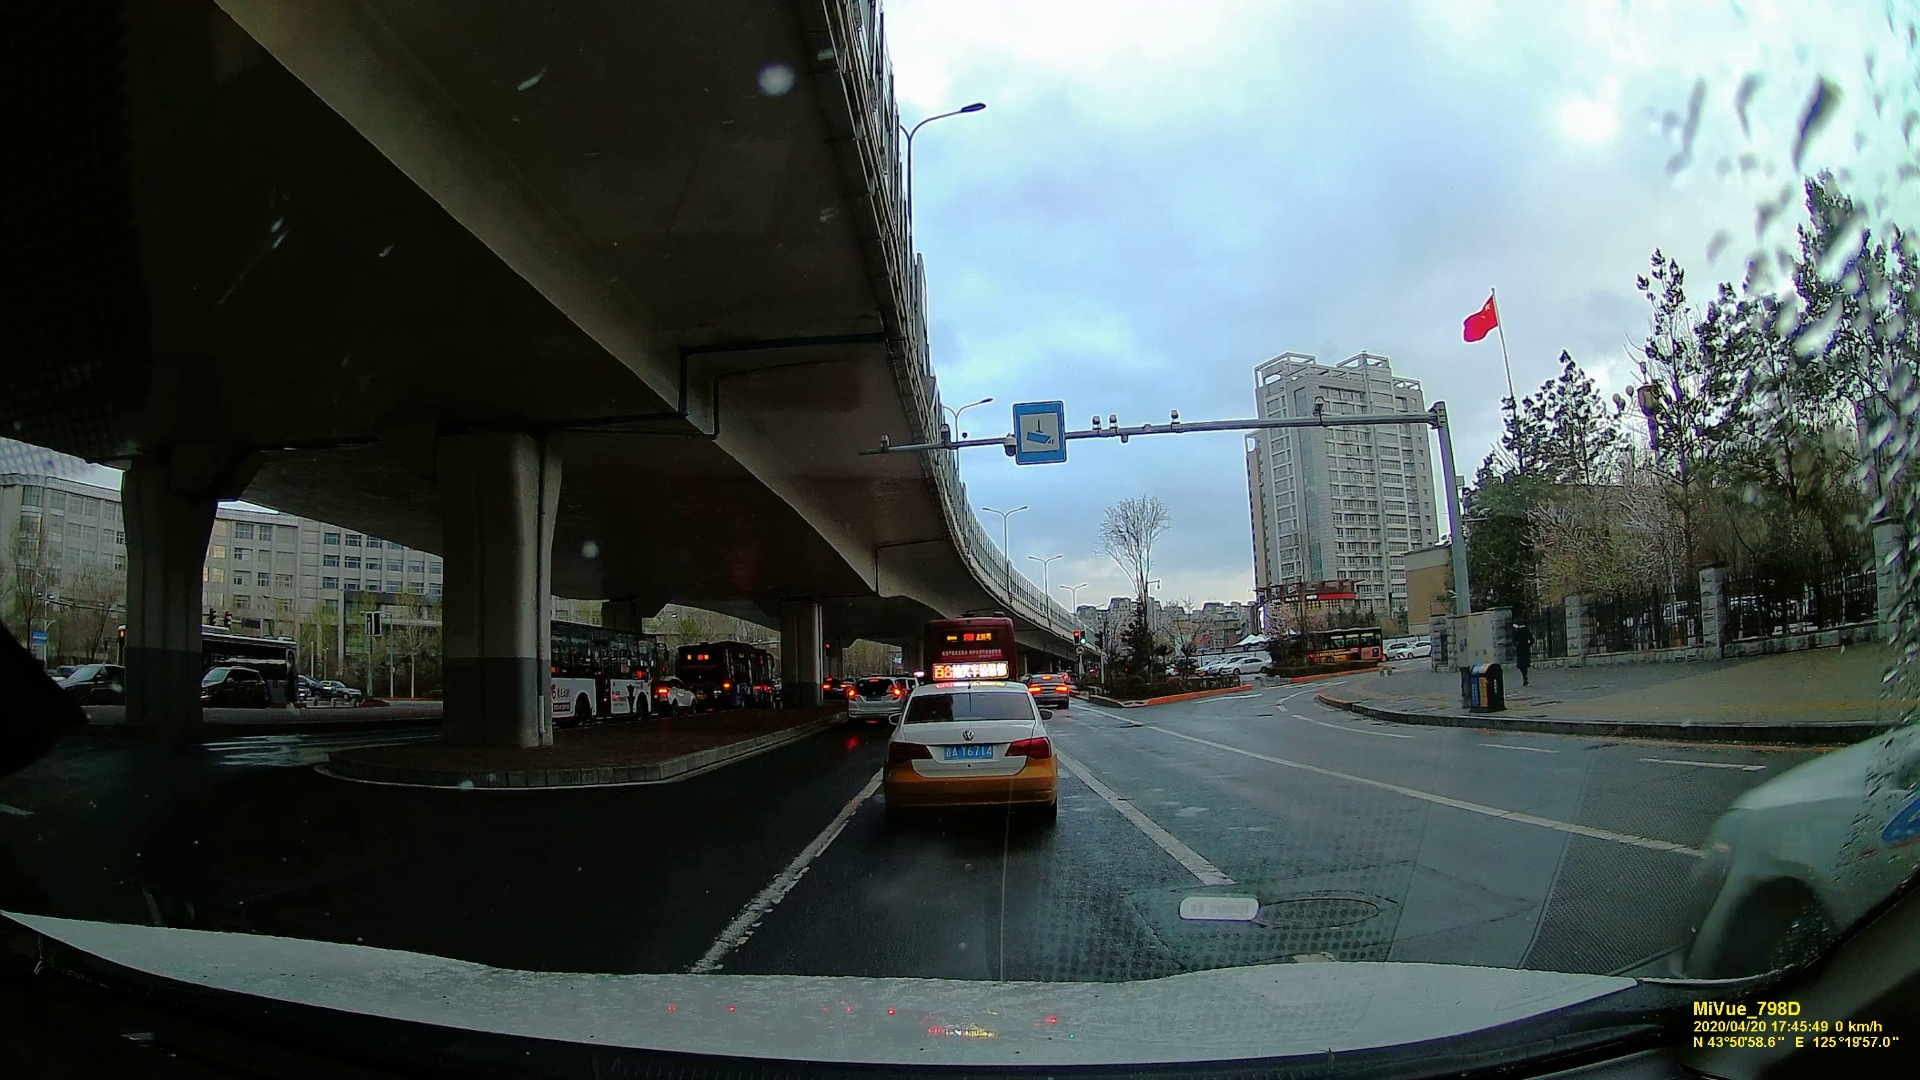bus: (549, 620, 664, 722), (677, 644, 777, 719), (919, 617, 1012, 685)
person: (1509, 615, 1535, 687)
traffic_sign: (1010, 401, 1067, 462)
vehicle: (886, 679, 1063, 824), (847, 674, 904, 725), (1023, 672, 1073, 708)
